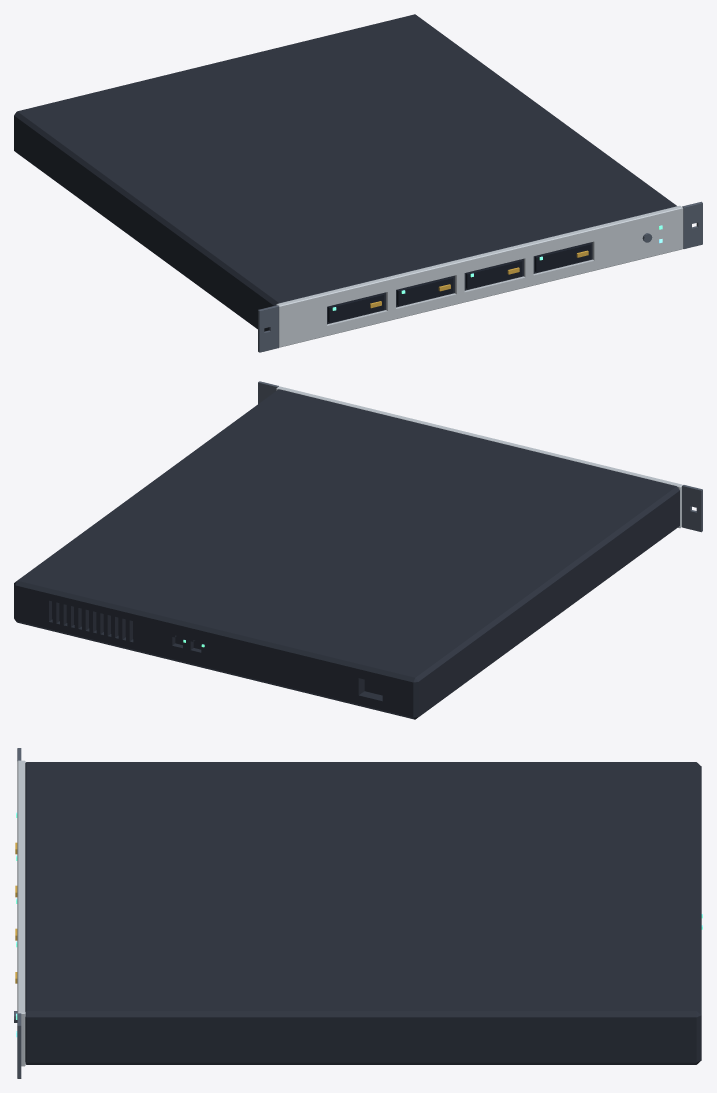
The model's file is server_1u_entry.glb.
The picture shows the model from 3 angles, top to bottom: view 1: azimuth 30°, elevation 25°; view 2: azimuth 150°, elevation 25°; view 3: azimuth 270°, elevation 25°; orthographic projection. The views are drawn at different scales.
Visible parts, largest first — view 1: chassis, bezel, bay_tray_3, bay_tray_2, bay_tray_0, bay_tray_1, ear_l, ear_r; view 2: chassis, bezel, ear_l; view 3: chassis, bezel.
Part boxes in pixels (<box>): chassis: <box>14,14,676,331</box>; bezel: <box>276,205,683,347</box>; bay_tray_3: <box>535,243,591,272</box>; bay_tray_2: <box>466,260,522,289</box>; bay_tray_0: <box>328,293,384,322</box>; bay_tray_1: <box>397,276,453,305</box>; ear_l: <box>258,305,278,352</box>; ear_r: <box>682,201,702,248</box>; chassis: <box>14,389,679,719</box>; bezel: <box>276,386,682,528</box>; ear_l: <box>682,485,702,532</box>; chassis: <box>25,762,701,1064</box>; bezel: <box>17,760,25,1066</box>.
Bounding box in the file's own units: 0.4826 × 0.0437 × 0.5066.
